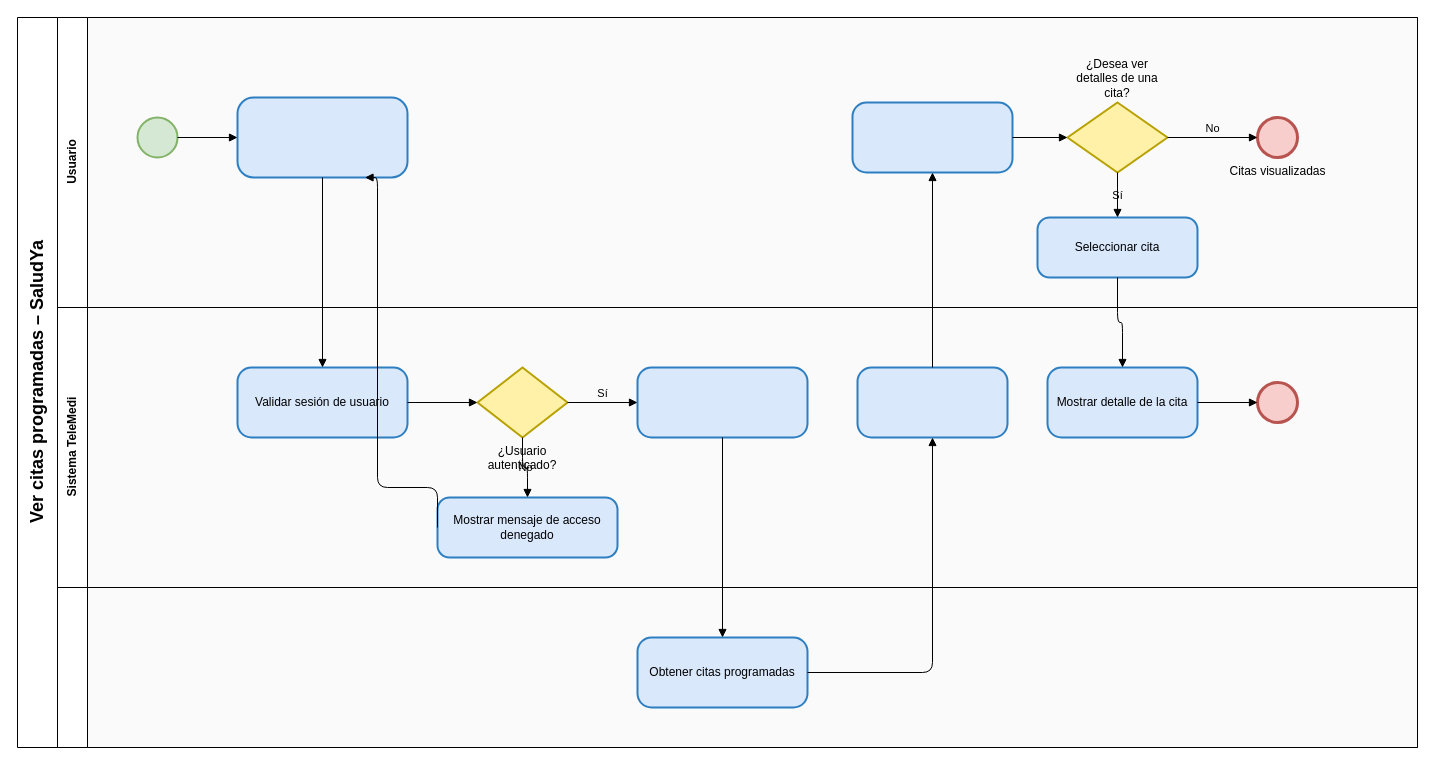
Image size: 1435x765. Some labels were removed from this diagram. Here are the shapes that lost their labels. From the top down, the box of each, then its label:
(236, 96, 408, 178): Seleccionar opción Ver citas programadas
(851, 101, 1013, 173): Visualizar lista de citas
(636, 366, 808, 438): Solicitar citas programadas
(856, 366, 1008, 438): Mostrar citas programadas
(1256, 380, 1298, 424): Detalle de cita visualizado
(56, 586, 1418, 748): Base de datos
